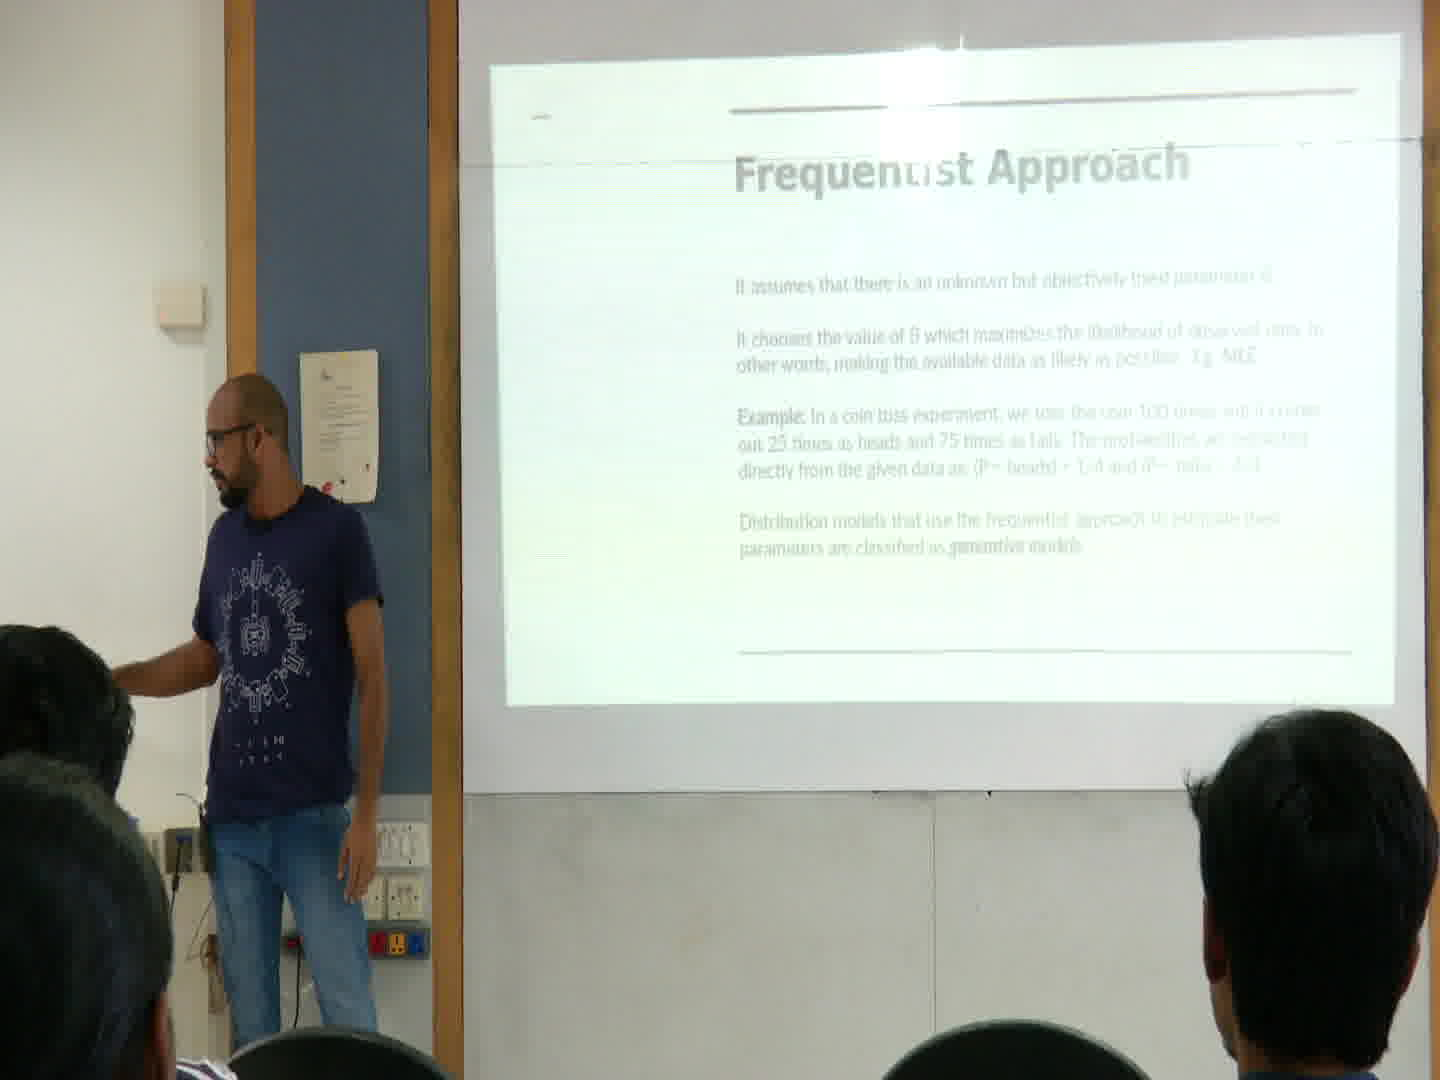slide: (488, 35, 1396, 704)
